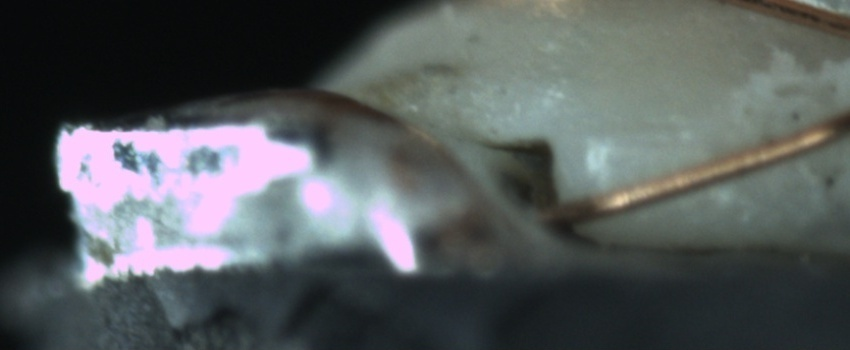DL: (584, 100, 715, 163)
